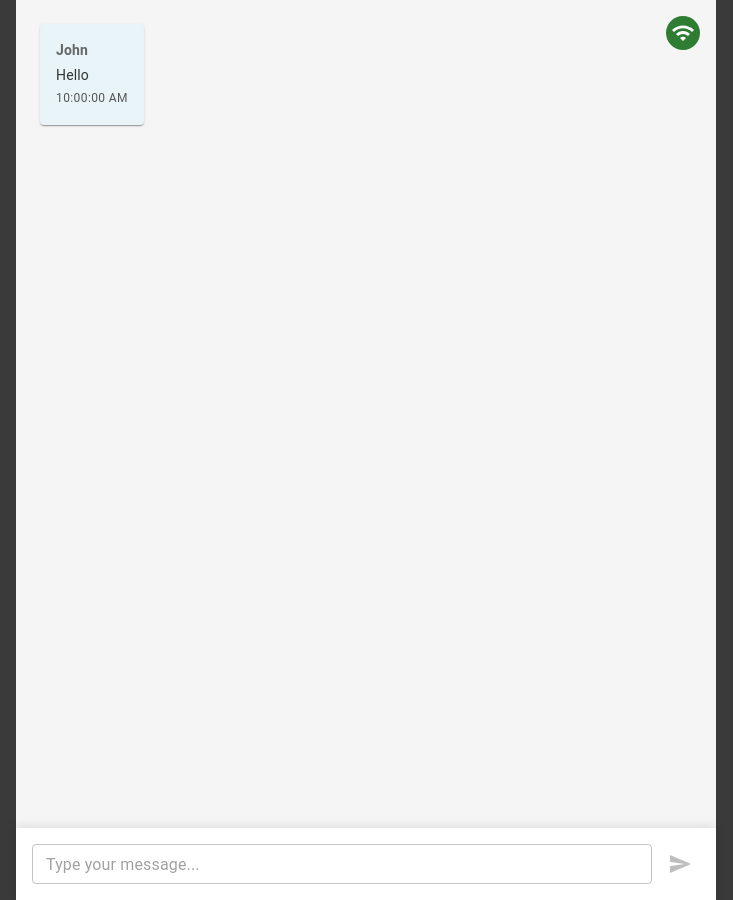
Test case: ChatPage › live updates › stops checking when paused
Click the button named "Pause live updates" at (683,33), box left=666, top=16, right=700, bottom=50
Wait 6000 ms
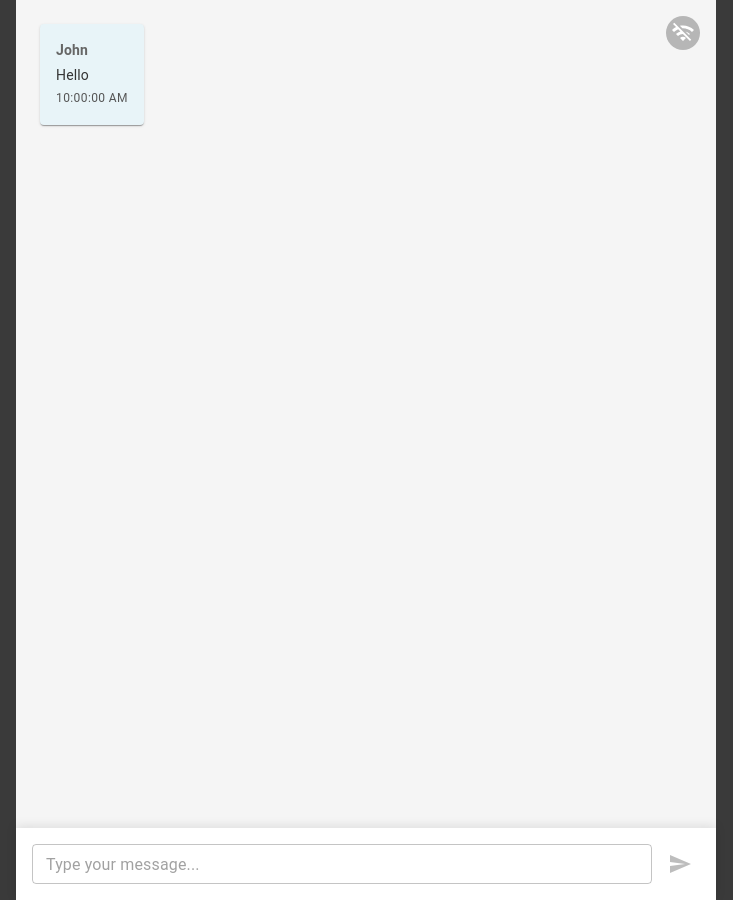
Expected: the button named "Resume live updates" is shown, left=666, top=16, right=700, bottom=50
